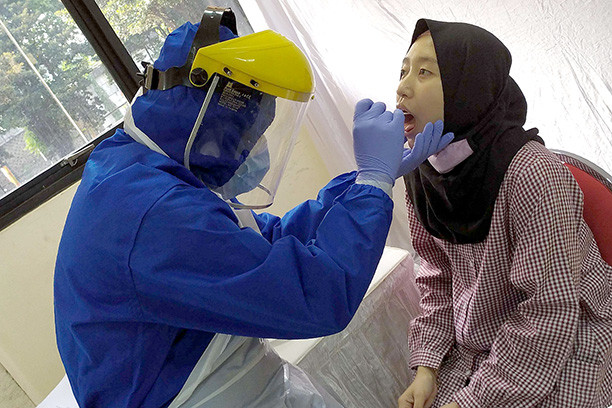Coverall: (50, 15, 355, 408)
Face_Shield: (192, 36, 315, 196)
Gloves: (383, 117, 458, 191), (354, 94, 405, 192)
with_mask: (221, 103, 277, 207)
without_mask: (394, 61, 446, 166)
